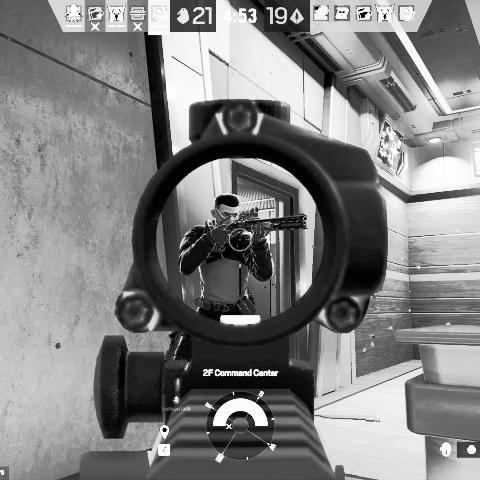Character: (165, 191, 311, 363)
Head: (211, 193, 240, 227)
